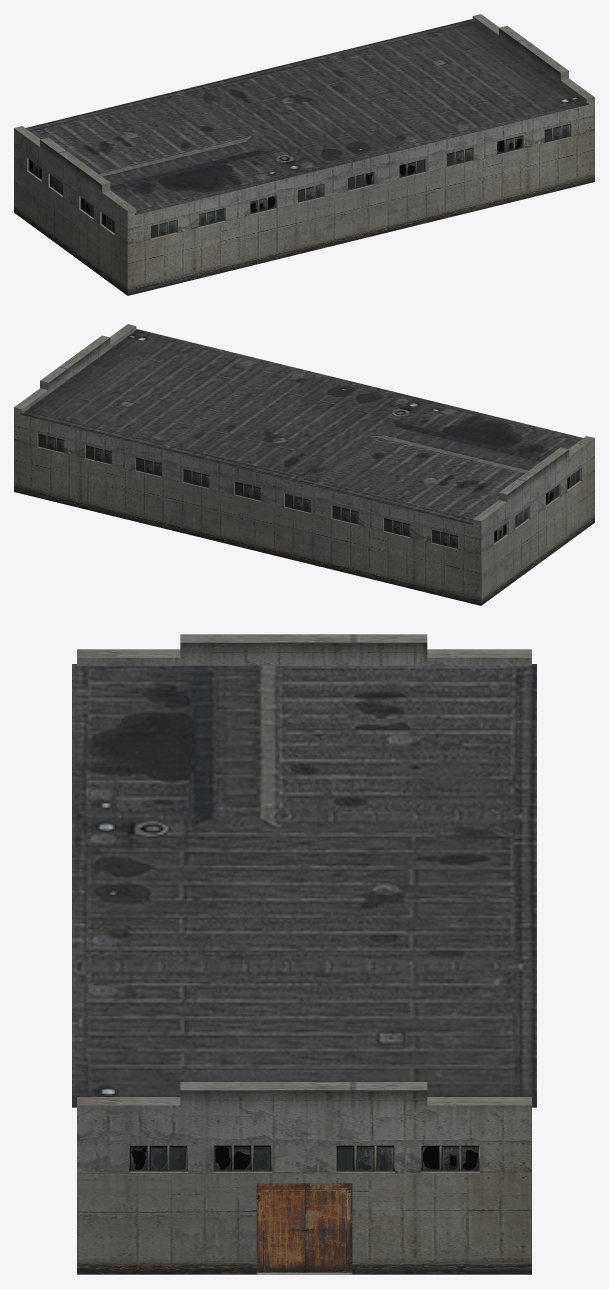
Rendered from Dhz_zsfz_06.FBX.
3 renders of one model, top to bottom at view 1: azimuth 30°, elevation 25°; view 2: azimuth 150°, elevation 25°; view 3: azimuth 270°, elevation 25°, orthographic. The views are drawn at different scales.
Visible parts, largest first — view 1: Dhz_zsfz_06; view 2: Dhz_zsfz_06; view 3: Dhz_zsfz_06.
Boxes of the visible parts, x1,y1,x2,y2 form: Dhz_zsfz_06: (14,14,594,295); Dhz_zsfz_06: (14,324,594,605); Dhz_zsfz_06: (72,634,536,1274).
Bounding box in the file's own units: 47.4 × 8.93 × 20.43.
